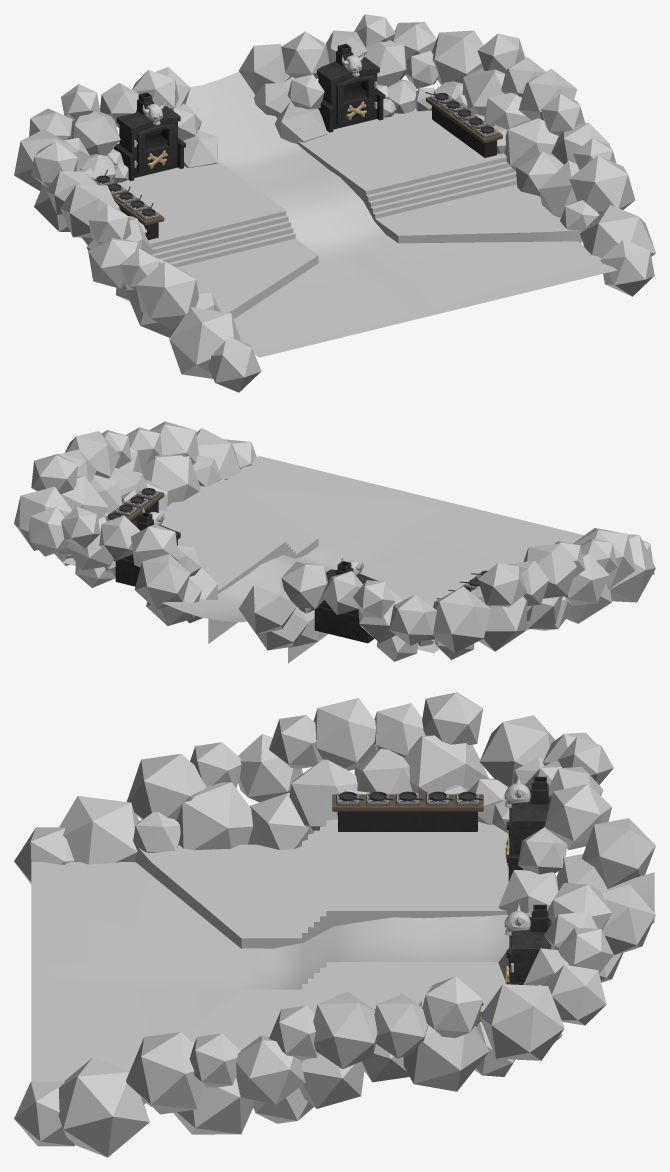
Rendered from background.fbx.
3 renders of one model, top to bottom at view 1: azimuth 30°, elevation 25°; view 2: azimuth 150°, elevation 25°; view 3: azimuth 270°, elevation 25°, orthographic. The views are drawn at different scales.
Parts seen in each view (by area): view 1: lava, rocks_R, rocks_L, floor_R, floor_L, oven_R, oven_L, table_R, oven_door_L, oven_door_R, table_L; view 2: rocks_L, rocks_R, lava, floor_R, floor_L, oven_L, oven_R, table_R; view 3: rocks_L, rocks_R, lava, floor_L, floor_R, table_L, oven_L, oven_R.
Boxes of the visible parts, x1=… form: lava: x1=185, y1=71, x2=616, y2=357; rocks_R: x1=238, y1=14, x2=655, y2=296; rocks_L: x1=14, y1=66, x2=261, y2=392; floor_R: x1=297, y1=108, x2=581, y2=243; floor_L: x1=117, y1=161, x2=318, y2=319; oven_R: x1=316, y1=43, x2=385, y2=132; oven_L: x1=113, y1=92, x2=185, y2=180; table_R: x1=426, y1=96, x2=502, y2=157; oven_door_L: x1=134, y1=124, x2=175, y2=173; oven_door_R: x1=336, y1=75, x2=377, y2=124; table_L: x1=108, y1=178, x2=164, y2=240; rocks_L: x1=239, y1=528, x2=655, y2=661; rocks_R: x1=14, y1=421, x2=256, y2=625; lava: x1=162, y1=456, x2=583, y2=622; floor_R: x1=62, y1=478, x2=318, y2=643; floor_L: x1=288, y1=557, x2=523, y2=663; oven_L: x1=313, y1=561, x2=377, y2=643; oven_R: x1=113, y1=512, x2=180, y2=586; table_R: x1=105, y1=488, x2=164, y2=521; rocks_L: x1=14, y1=692, x2=655, y2=914; rocks_R: x1=14, y1=883, x2=655, y2=1157; lava: x1=31, y1=862, x2=654, y2=1081; floor_L: x1=135, y1=819, x2=508, y2=948; floor_R: x1=142, y1=962, x2=505, y2=1104; table_L: x1=332, y1=794, x2=483, y2=831; oven_L: x1=506, y1=776, x2=551, y2=881; oven_R: x1=506, y1=904, x2=551, y2=984.
Size of the model in its own units: 2556 by 677 by 2122.
